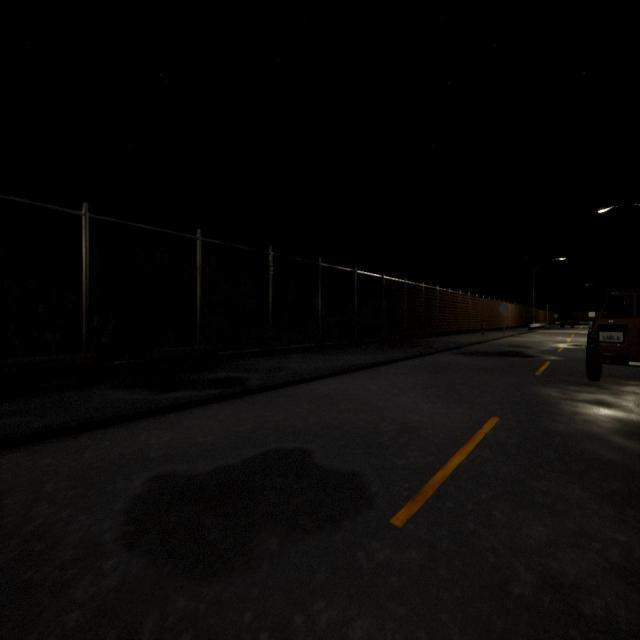Vehicle: (586, 290, 640, 381)
